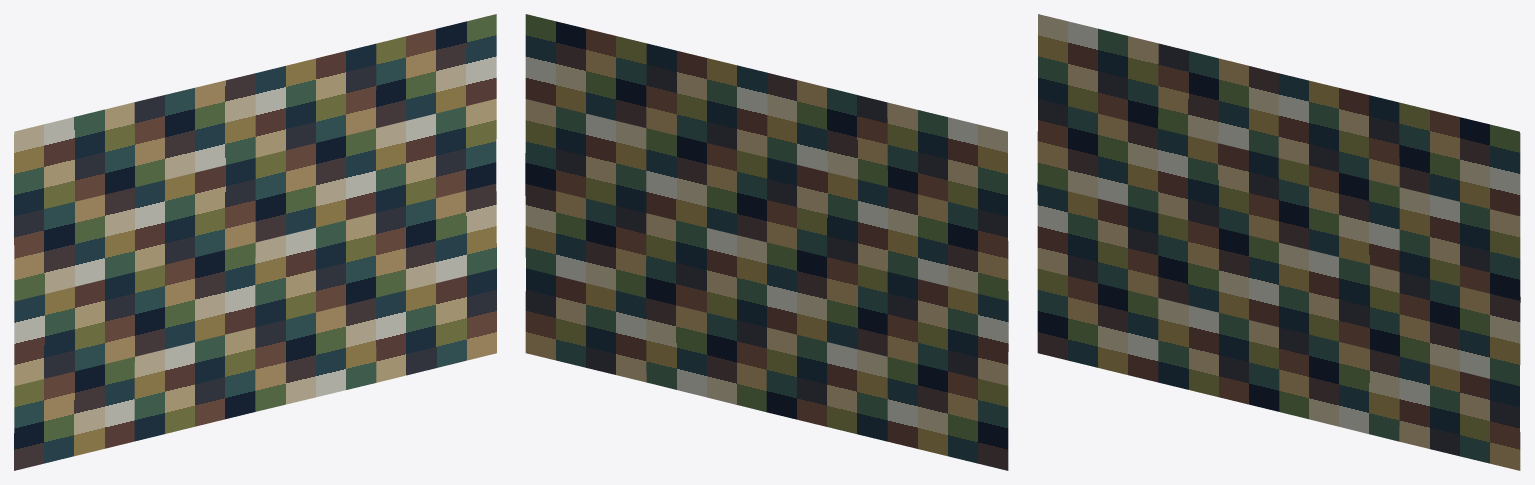
3 renders of one model, left to right at view 1: azimuth 30°, elevation 25°; view 2: azimuth 150°, elevation 25°; view 3: azimuth 330°, elevation 25°, orthographic.
Size of the model in its own units: 11555 by 7761 by 25.66.
Materials: 1 (1 with a texture image).
